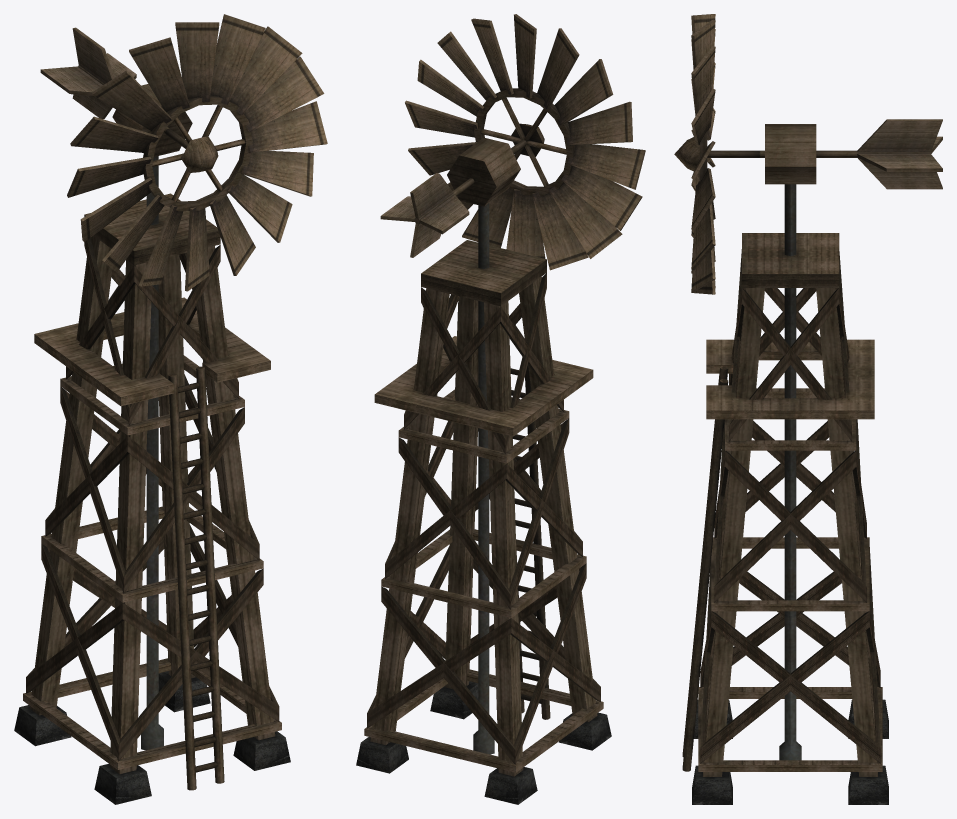
The model's file is windmill.obj.
3 views of the same model, side by side, from view 1: azimuth 30°, elevation 25°; view 2: azimuth 150°, elevation 25°; view 3: azimuth 270°, elevation 25° (orthographic). The views are drawn at different scales.
Visible parts, largest first — view 1: Untitled.004_meshes[1], Untitled.002_meshes[0]; view 2: Untitled.004_meshes[1], Untitled.002_meshes[0]; view 3: Untitled.004_meshes[1], Untitled.002_meshes[0].
Part boxes in pixels (x1,y1,x2,y2): Untitled.004_meshes[1]: (14, 84, 290, 804); Untitled.002_meshes[0]: (40, 14, 327, 291); Untitled.004_meshes[1]: (356, 137, 611, 804); Untitled.002_meshes[0]: (380, 14, 645, 270); Untitled.004_meshes[1]: (682, 124, 888, 804); Untitled.002_meshes[0]: (674, 14, 942, 294).
Bounding box in the file's own units: 252 × 732 × 242.
Materials: 2 (2 with a texture image).
